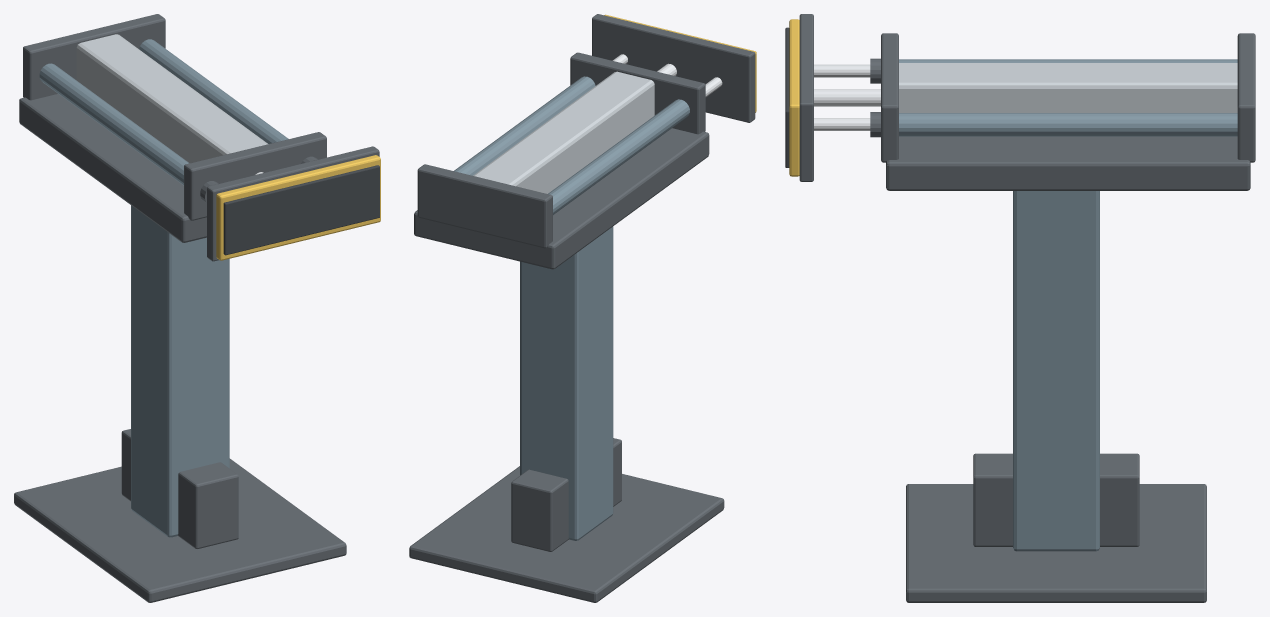
The model's file is pusher_visual.glb.
The picture shows the model from 3 angles, left to right: view 1: azimuth 30°, elevation 25°; view 2: azimuth 150°, elevation 25°; view 3: azimuth 270°, elevation 25°; orthographic projection. The views are drawn at different scales.
Parts seen in each view (by area): view 1: PedestalColumn, BasePlate, PusherPaddle, CylinderBarrel, ActuatorMount, ColumnGusset, CylinderCap_0.24, CylinderCap_-0.66, GuideHousing_-0.16, GuideHousing_0.16; view 2: PedestalColumn, BasePlate, ActuatorMount, CylinderBarrel, PusherPaddle, CylinderCap_-0.66, ColumnGusset, CylinderCap_0.24, GuideHousing_-0.16, GuideHousing_0.16; view 3: PedestalColumn, BasePlate, ActuatorMount, CylinderBarrel, GuideHousing_0.16, ColumnGusset, PusherPaddle, CylinderCap_-0.66, CylinderCap_0.24, GuideHousing_-0.16.
Part boxes in pixels (<box>): PedestalColumn: <box>131,205,229,537</box>; BasePlate: <box>14,458,346,602</box>; PusherPaddle: <box>207,146,380,261</box>; CylinderBarrel: <box>76,34,268,163</box>; ActuatorMount: <box>19,94,206,242</box>; ColumnGusset: <box>121,429,238,549</box>; CylinderCap_0.24: <box>184,132,326,220</box>; CylinderCap_-0.66: <box>23,14,165,100</box>; GuideHousing_-0.16: <box>39,63,189,185</box>; GuideHousing_0.16: <box>139,39,288,143</box>; PedestalColumn: <box>520,226,613,540</box>; BasePlate: <box>409,466,724,602</box>; ActuatorMount: <box>414,128,709,269</box>; CylinderBarrel: <box>473,71,654,193</box>; PusherPaddle: <box>592,14,756,122</box>; CylinderCap_-0.66: <box>417,164,552,248</box>; ColumnGusset: <box>511,438,621,551</box>; CylinderCap_0.24: <box>570,52,705,134</box>; GuideHousing_-0.16: <box>548,99,689,214</box>; GuideHousing_0.16: <box>454,76,595,175</box>; PedestalColumn: <box>1013,191,1099,551</box>; BasePlate: <box>906,484,1206,602</box>; ActuatorMount: <box>886,136,1250,190</box>; CylinderBarrel: <box>899,63,1237,112</box>; GuideHousing_0.16: <box>899,113,1237,136</box>; ColumnGusset: <box>973,453,1139,546</box>; PusherPaddle: <box>785,14,880,181</box>; CylinderCap_-0.66: <box>1237,33,1255,162</box>; CylinderCap_0.24: <box>881,33,898,162</box>; GuideHousing_-0.16: <box>899,59,1237,62</box>.
Bounding box in the file's own units: 0.64 × 1.37 × 1.19.
